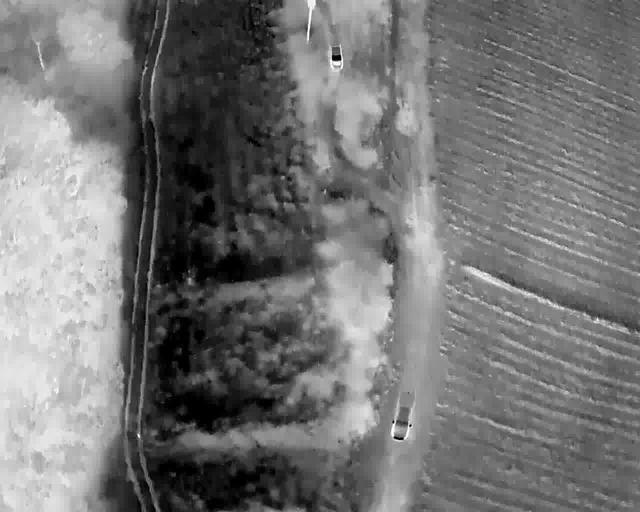car: (390, 389, 416, 441), (330, 43, 343, 67)
